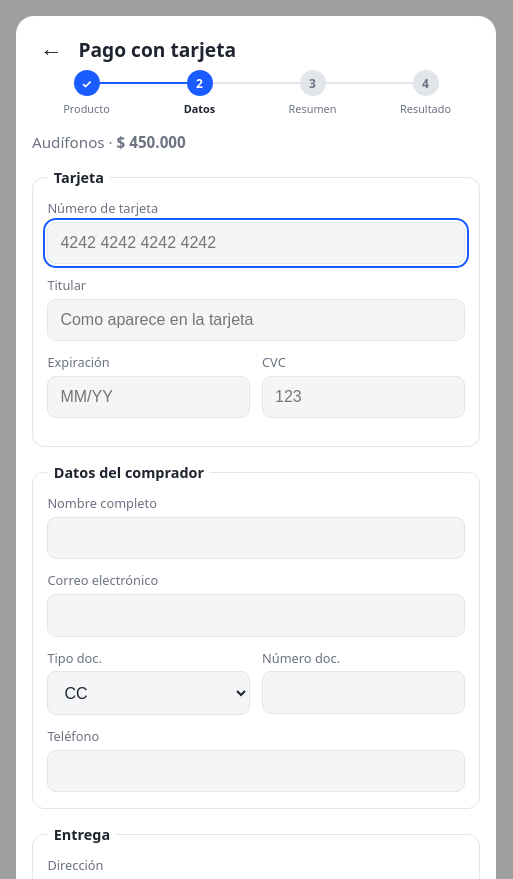
Test case: CardModal › detecta y muestra la marca de la tarjeta
Type "5555555555554444" into the field labelled "Número de tarjeta" at x=256, y=243, box x1=47 y1=222 x2=465 y2=264
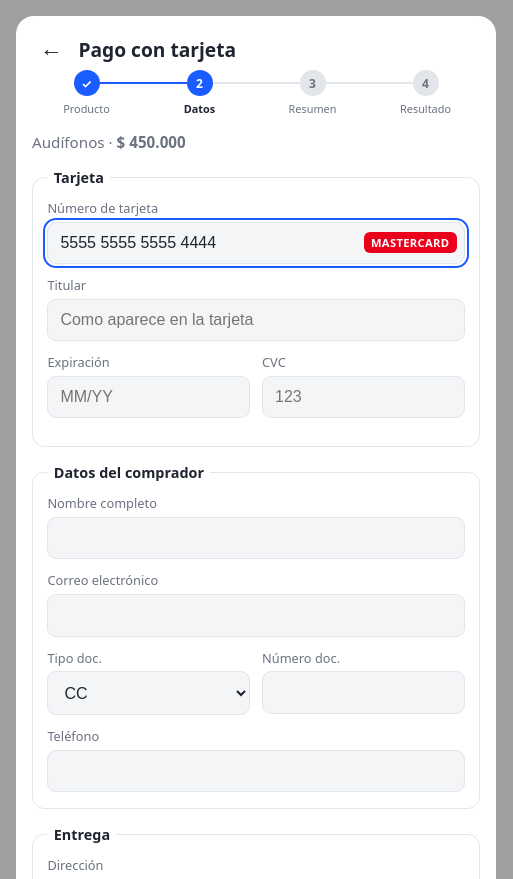
Now the text with test id "card-brand" reads "MASTERCARD", box x1=371 y1=235 x2=449 y2=250
